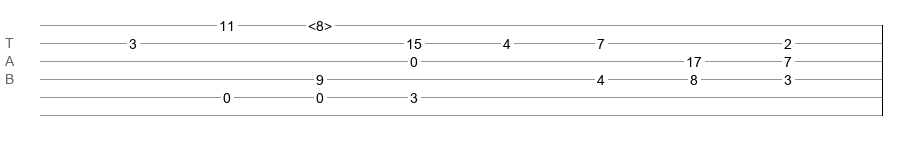0: (223, 90, 231, 100), (316, 90, 324, 100), (410, 54, 418, 64)
11: (219, 18, 235, 28)
15: (406, 36, 422, 46)
17: (686, 54, 702, 64)
2: (784, 36, 792, 46)
3: (129, 36, 137, 46), (410, 90, 418, 100), (784, 72, 792, 82)
4: (503, 36, 511, 46), (597, 72, 605, 82)
7: (597, 36, 605, 46), (784, 54, 792, 64)
8: (690, 72, 698, 82)
9: (316, 72, 324, 82)
harmonic: (308, 18, 332, 28)
